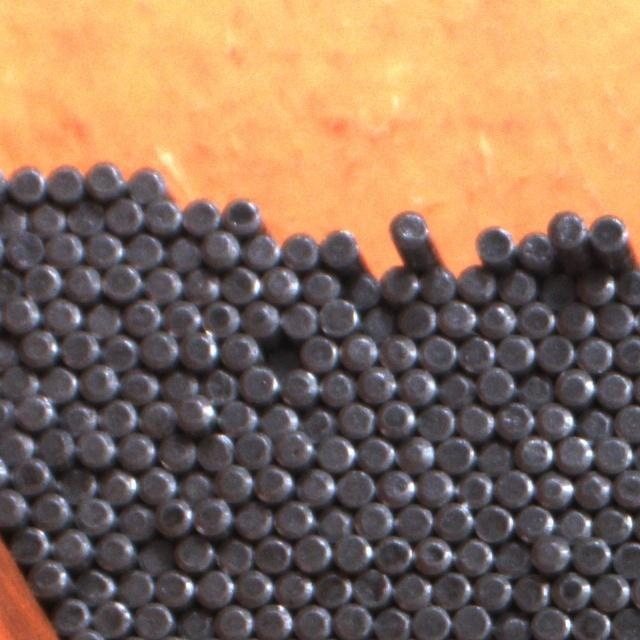tool: (30, 487, 72, 529), (27, 555, 69, 596), (52, 525, 93, 566), (178, 327, 219, 368), (475, 225, 515, 267), (219, 330, 260, 370), (222, 193, 262, 234), (8, 522, 48, 563), (390, 208, 430, 249), (332, 530, 372, 570), (240, 228, 280, 268), (200, 228, 240, 268), (354, 498, 394, 538), (94, 530, 134, 570), (75, 426, 115, 466), (50, 594, 90, 634), (298, 331, 338, 371), (23, 259, 63, 299), (5, 228, 45, 268), (238, 362, 278, 402), (102, 260, 142, 300), (59, 326, 98, 366), (234, 498, 273, 538), (157, 432, 196, 472), (134, 598, 173, 638), (536, 331, 575, 371), (75, 494, 115, 533), (452, 601, 492, 640), (139, 328, 178, 368), (280, 230, 319, 270), (280, 298, 319, 338), (19, 326, 58, 366), (253, 532, 292, 572), (116, 429, 155, 469), (332, 600, 372, 639), (432, 568, 472, 607), (253, 600, 292, 640), (530, 532, 570, 571), (352, 568, 391, 608), (376, 398, 415, 438), (571, 534, 611, 573), (373, 532, 412, 572), (193, 496, 233, 535), (74, 566, 114, 605), (295, 466, 334, 506), (36, 424, 75, 464), (194, 567, 233, 607), (358, 362, 397, 402), (253, 462, 293, 501), (217, 396, 256, 436), (174, 532, 213, 572), (79, 361, 119, 400), (274, 427, 314, 466), (62, 261, 101, 301), (100, 330, 139, 370), (14, 454, 54, 493), (591, 571, 630, 610), (315, 432, 354, 471), (554, 366, 593, 405), (292, 531, 331, 570), (437, 433, 476, 472), (551, 570, 590, 609), (476, 365, 515, 404), (336, 467, 375, 506), (261, 263, 300, 302), (534, 469, 573, 508), (554, 432, 593, 471), (279, 367, 318, 406), (473, 502, 512, 541), (456, 332, 495, 371), (414, 534, 453, 573), (65, 197, 104, 236), (493, 468, 532, 507), (116, 500, 155, 539), (154, 567, 193, 606), (42, 295, 81, 334), (457, 263, 496, 302), (394, 500, 433, 539), (143, 195, 182, 234), (38, 363, 77, 402), (16, 389, 55, 428), (549, 207, 588, 246), (181, 194, 219, 234), (273, 498, 313, 536), (1, 293, 41, 331), (340, 330, 378, 370), (175, 393, 215, 431), (196, 430, 234, 470), (92, 598, 132, 636), (417, 400, 455, 440), (58, 463, 98, 501), (511, 571, 550, 609), (337, 398, 375, 437), (301, 267, 339, 306), (515, 432, 553, 471), (594, 433, 632, 472), (514, 502, 552, 541), (234, 428, 272, 467), (380, 266, 419, 304), (412, 601, 450, 640), (438, 297, 476, 336), (594, 369, 632, 408), (105, 194, 143, 233), (320, 298, 359, 336), (356, 433, 395, 471), (377, 466, 416, 504), (125, 230, 163, 269), (535, 399, 573, 438), (473, 570, 512, 608), (477, 298, 515, 337), (496, 399, 534, 438), (434, 500, 472, 539), (495, 331, 533, 370), (416, 467, 454, 506), (234, 566, 272, 605), (498, 268, 537, 306), (392, 571, 431, 609), (594, 503, 632, 542), (214, 535, 253, 573), (517, 298, 555, 337), (398, 366, 436, 405), (214, 601, 252, 640), (314, 569, 352, 608), (98, 396, 136, 435), (97, 467, 136, 505), (8, 164, 46, 203), (318, 368, 356, 407), (455, 468, 494, 506), (199, 367, 237, 406), (320, 230, 358, 269), (396, 433, 434, 472), (596, 299, 635, 337), (46, 227, 84, 266), (259, 402, 298, 440), (292, 601, 330, 640), (518, 231, 556, 270), (214, 462, 252, 501), (85, 160, 124, 198), (574, 404, 613, 442), (314, 502, 352, 541), (241, 298, 279, 337), (221, 264, 259, 303), (46, 163, 84, 202), (127, 168, 166, 206), (200, 296, 239, 334), (588, 214, 627, 252), (530, 603, 570, 640), (85, 228, 123, 266), (436, 368, 474, 406), (418, 332, 456, 370), (556, 299, 594, 337), (456, 401, 494, 439), (574, 470, 612, 508), (155, 497, 193, 535), (554, 505, 592, 543), (398, 299, 436, 337), (122, 296, 160, 334), (274, 568, 312, 606), (455, 535, 493, 573), (515, 369, 553, 407), (143, 265, 181, 303), (182, 265, 220, 303), (475, 437, 513, 475), (138, 466, 176, 504), (120, 366, 158, 404), (576, 268, 614, 306), (419, 265, 457, 303), (162, 297, 200, 335), (298, 403, 336, 441), (138, 398, 175, 437), (379, 332, 418, 369), (262, 333, 301, 370), (83, 300, 121, 337), (164, 234, 202, 271), (576, 334, 613, 372), (160, 368, 198, 405), (28, 198, 65, 236), (493, 538, 530, 576), (342, 269, 380, 306), (538, 269, 576, 306), (371, 604, 410, 640), (572, 605, 612, 640), (177, 467, 214, 504), (58, 398, 96, 434), (359, 304, 397, 340), (116, 566, 152, 604), (136, 538, 173, 574), (175, 605, 213, 640), (557, 239, 595, 274), (0, 364, 37, 399), (0, 424, 33, 462), (492, 608, 530, 640), (0, 486, 27, 526), (0, 199, 28, 237), (613, 468, 640, 507), (613, 538, 640, 577), (614, 332, 640, 371), (614, 402, 640, 440), (611, 606, 640, 640), (0, 262, 23, 302), (616, 267, 640, 305), (0, 332, 19, 370)
